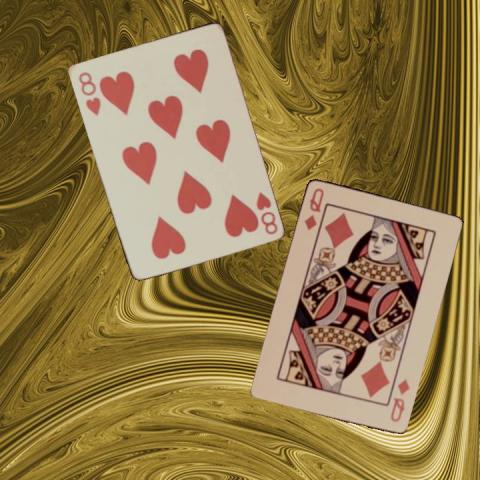8h: (75, 69, 102, 117), (252, 188, 278, 236)
Qd: (387, 375, 411, 423), (301, 185, 325, 231)
